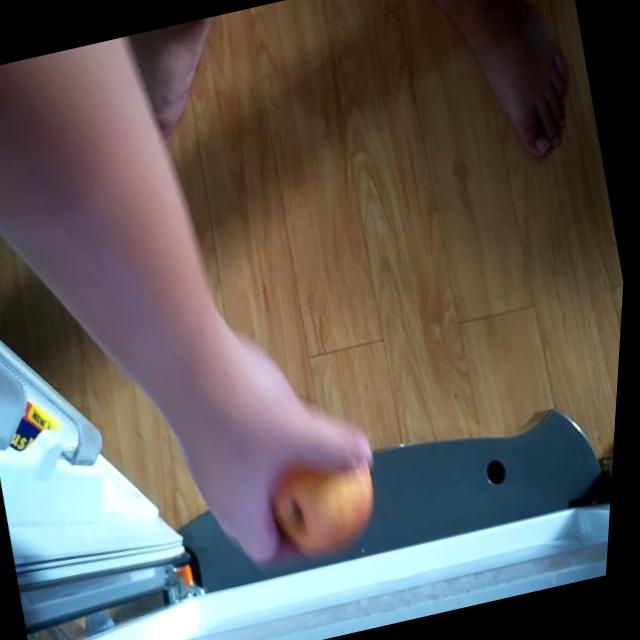apple: (269, 448, 392, 560)
